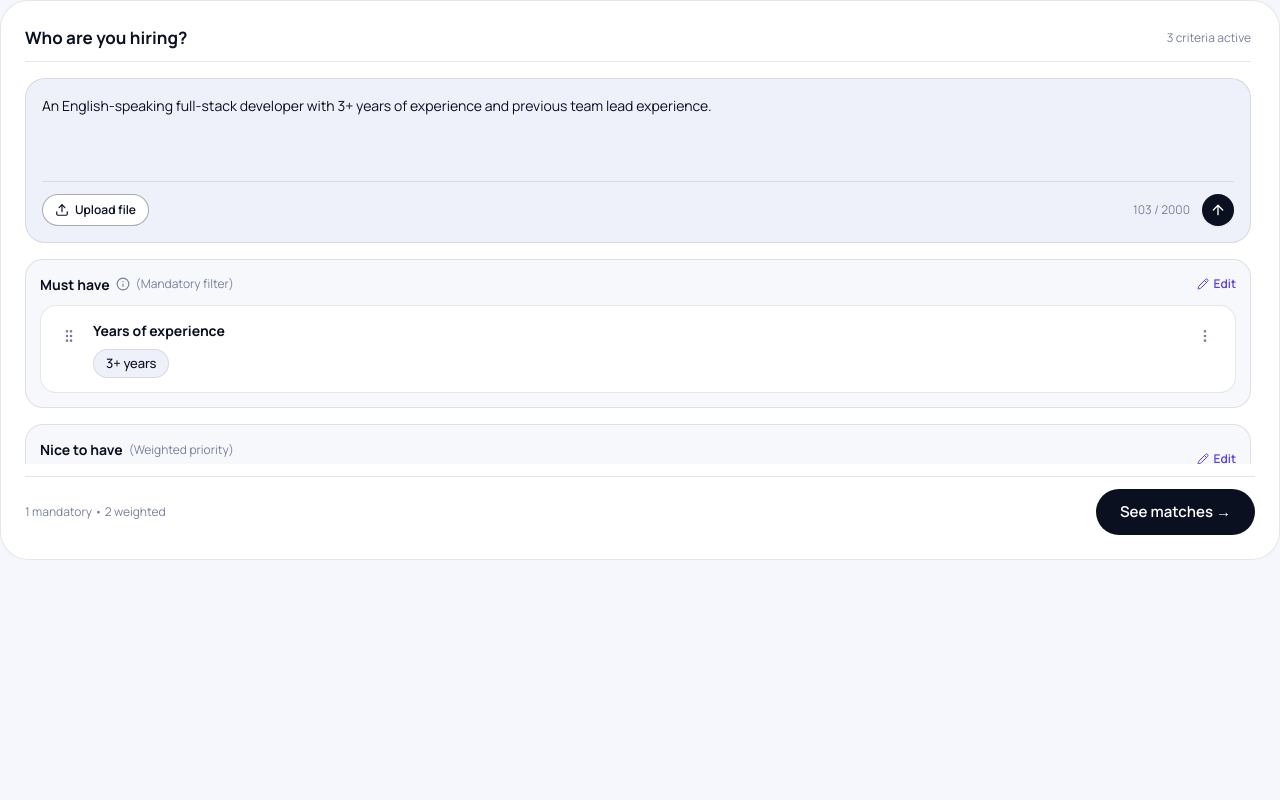
Test: CriteriaBuilder Component & Zero Network Requests › provides non-drag accessibility menu actions (Move to Nice to have / Must have)
Later steps or results of the test are not shown.
// Open menu for the first criterion
Step 1. Click the button named "options for" → coordinates (1205, 336), box left=1189, top=320, right=1221, bottom=352
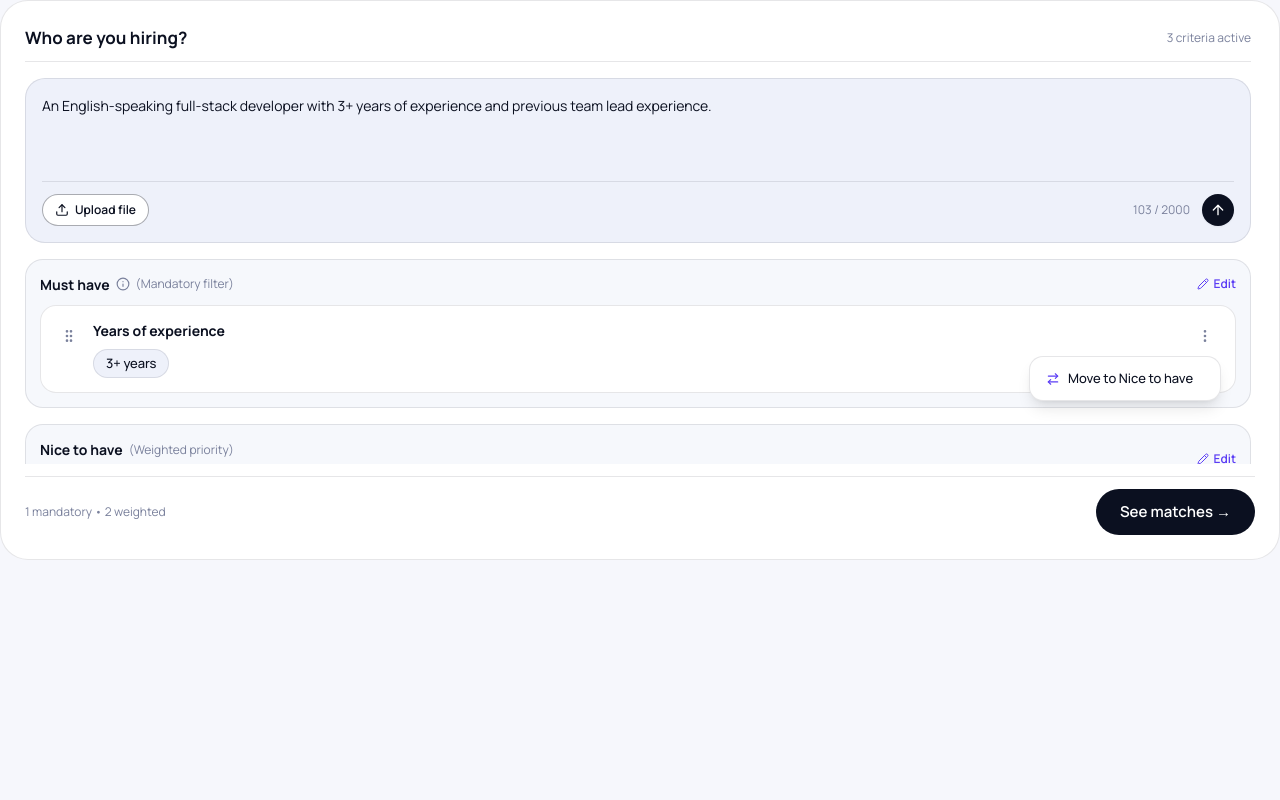
Expected: the menu item "Move to Nice to have" is shown, left=1036, top=363, right=1214, bottom=394
